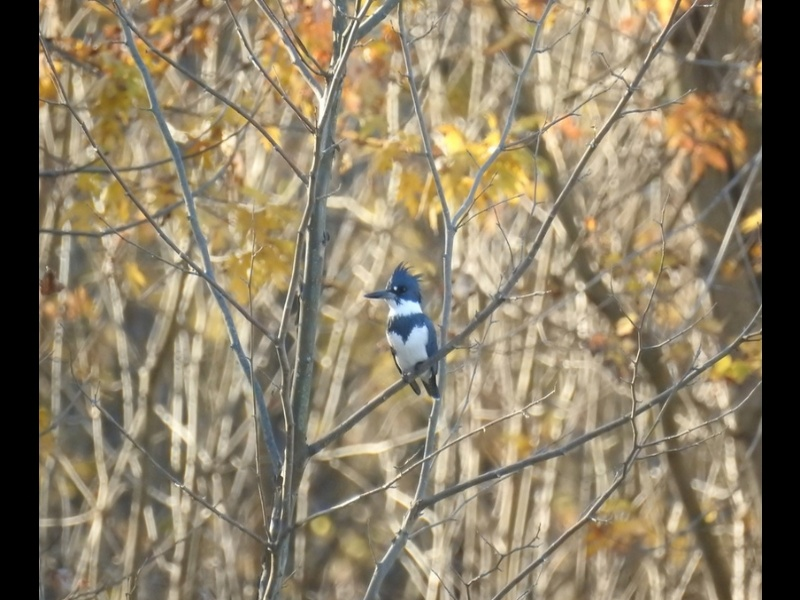kingfisher: (363, 264, 443, 401)
